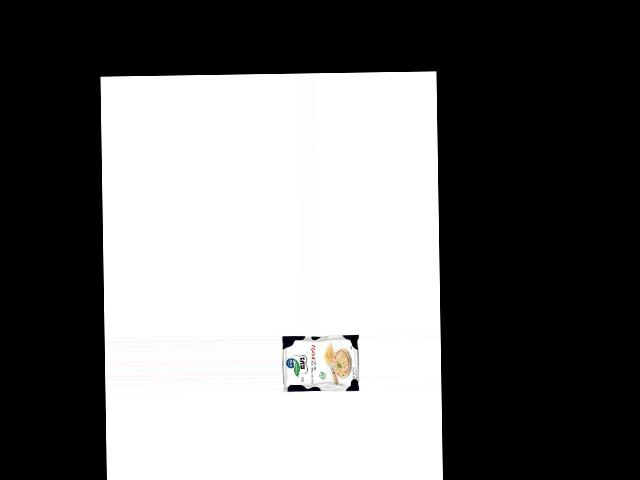cheese: (281, 333, 361, 393)
